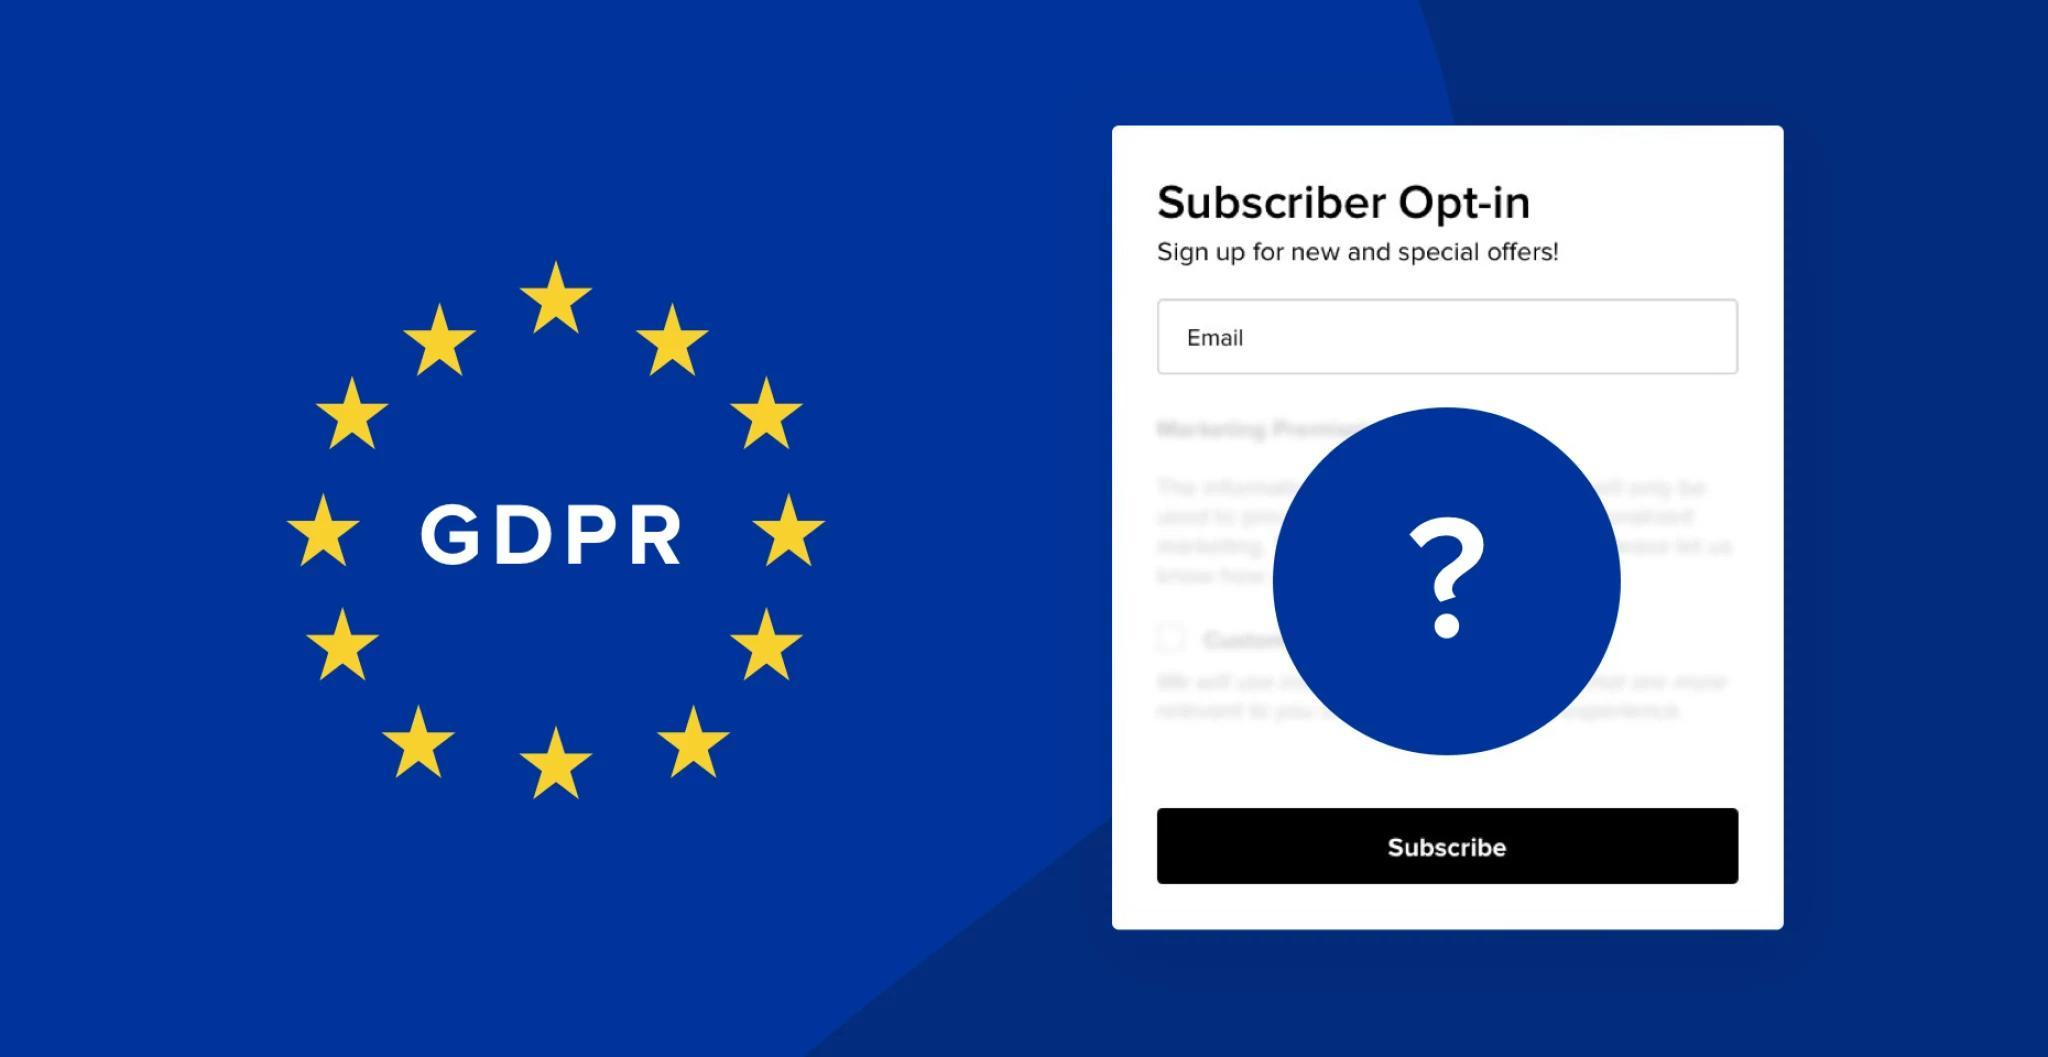button: (1161, 808, 1739, 882)
input: (1157, 302, 1739, 373)
